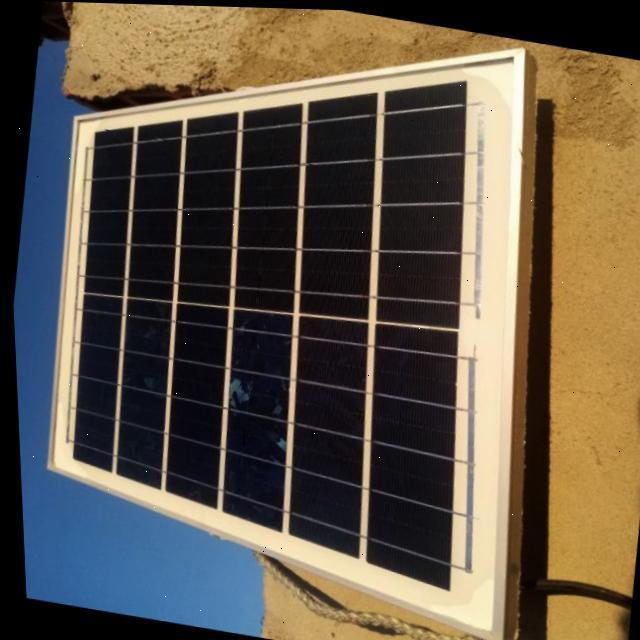Normal Solar Panel: (10, 0, 574, 640)
